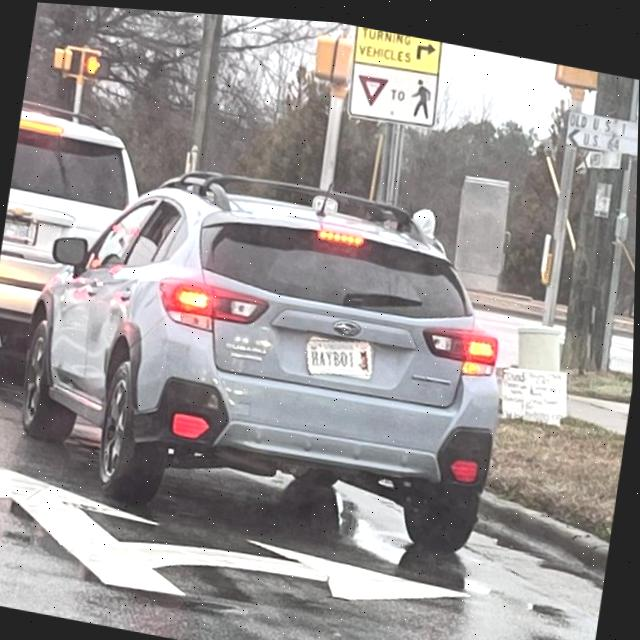LicensePlate: (307, 336, 375, 370)
